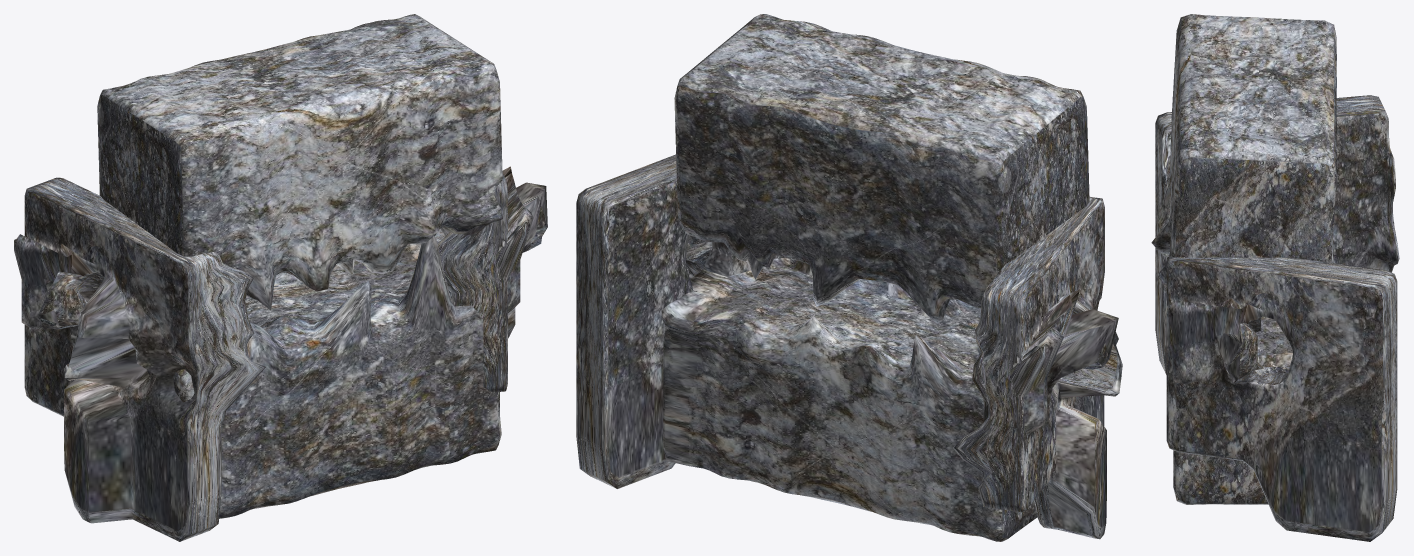
File: CaveOne.fbx
3 renders of one model, left to right at view 1: azimuth 30°, elevation 25°; view 2: azimuth 150°, elevation 25°; view 3: azimuth 270°, elevation 25°, orthographic. The views are drawn at different scales.
Visible parts, largest first — view 1: pCube2, pCube6, pCube1, pCube5; view 2: pCube2, pCube1, pCube6, pCube5; view 3: pCube5, pCube2, pCube6, pCube1.
Boxes of the visible parts, <box> form: pCube2: <box>97,14,502,310</box>; pCube6: <box>14,177,265,541</box>; pCube1: <box>147,236,515,518</box>; pCube5: <box>434,166,547,392</box>; pCube2: <box>674,14,1089,323</box>; pCube1: <box>661,258,1037,541</box>; pCube6: <box>953,197,1122,539</box>; pCube5: <box>576,154,790,488</box>; pCube5: <box>1166,256,1397,541</box>; pCube2: <box>1151,14,1336,286</box>; pCube6: <box>1155,95,1399,374</box>; pCube1: <box>1173,240,1345,504</box>.
Size of the model in its own units: 28.51 by 22.48 by 13.92.
Materials: 1 (1 with a texture image).
